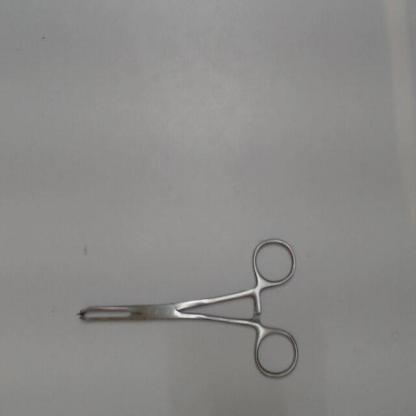Allis Tissue Forceps: (66, 227, 304, 389)
